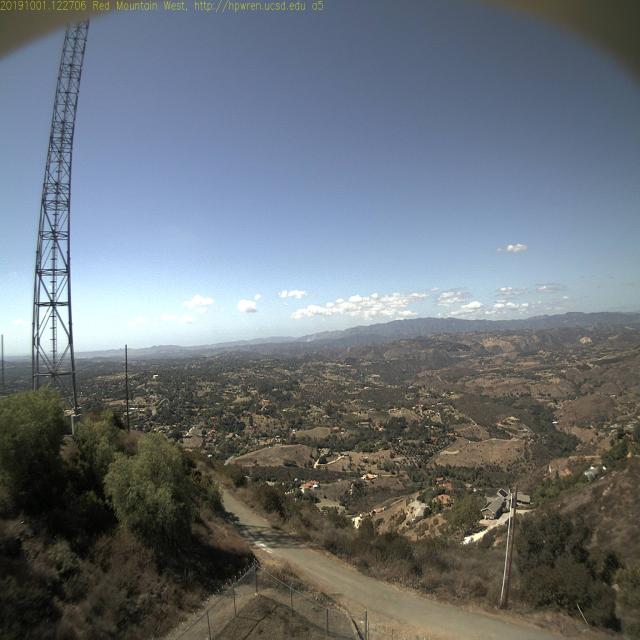smoke: (297, 328, 326, 344)
